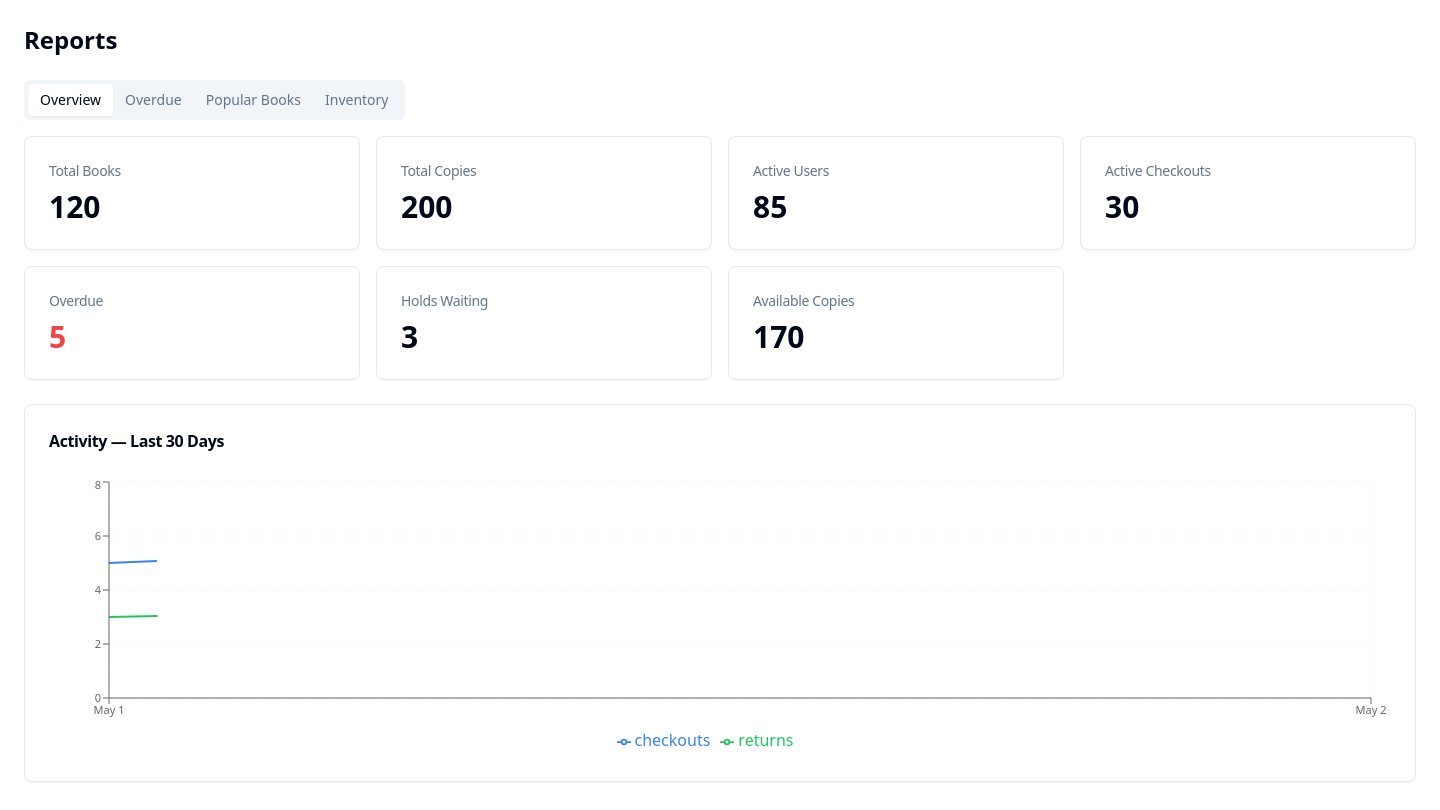
Test case: ReportsPage › shows popular books in Popular Books tab
The width and height of the screenshot is (1440, 810).
Click the tab "Popular Books" at (253, 100), box left=194, top=84, right=313, bottom=116
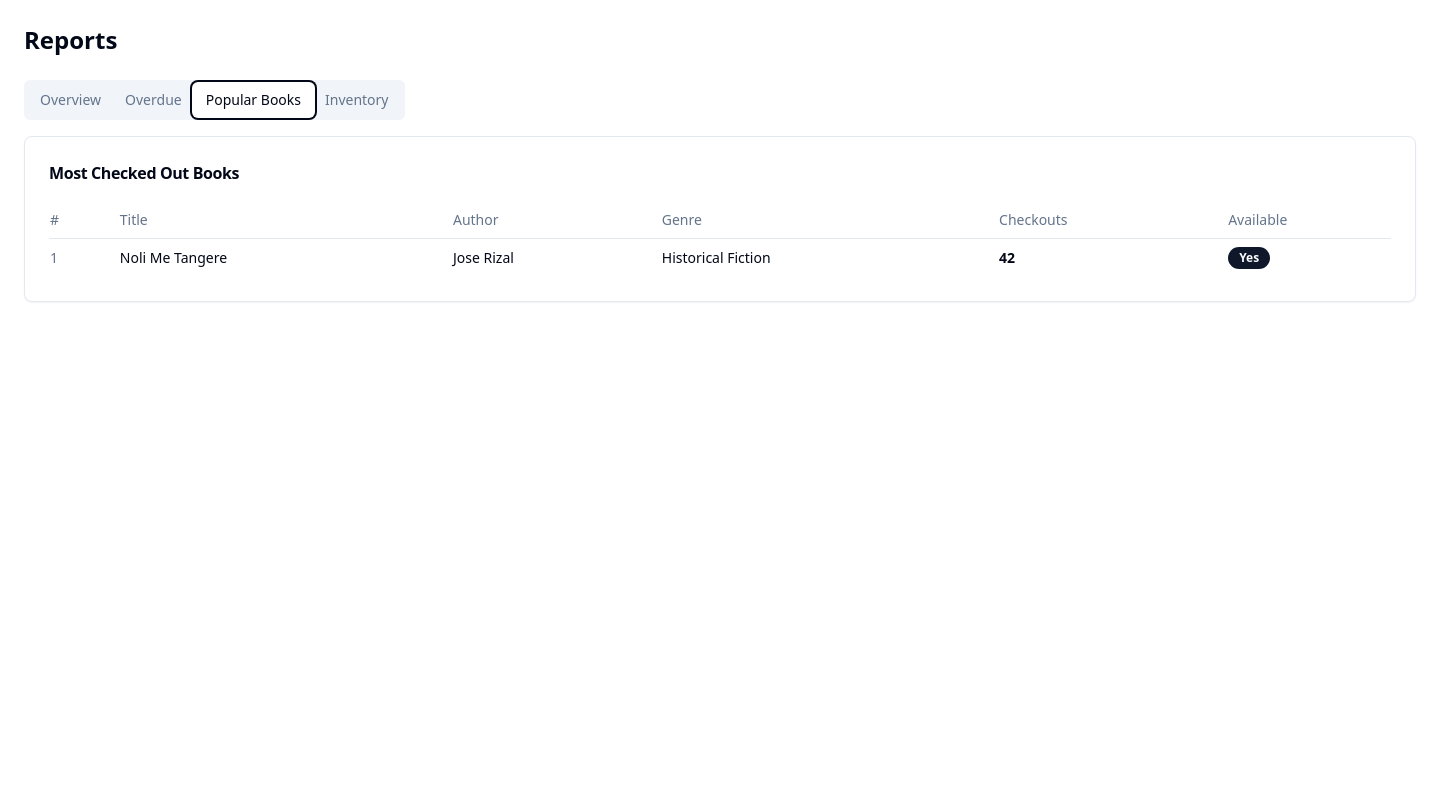
Now the text "Noli Me Tangere" is shown, box left=119, top=238, right=452, bottom=277
Now the text "Jose Rizal" is shown, box left=452, top=238, right=661, bottom=277
